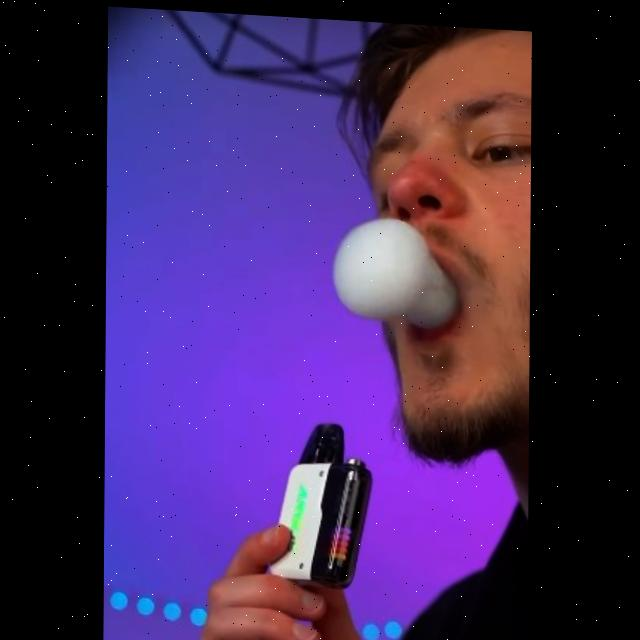vape: (269, 417, 374, 588)
